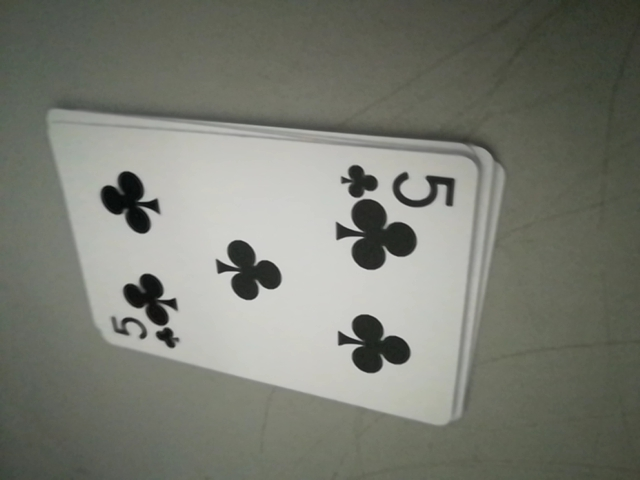mh 5: (341, 160, 462, 207), (103, 312, 183, 352)
